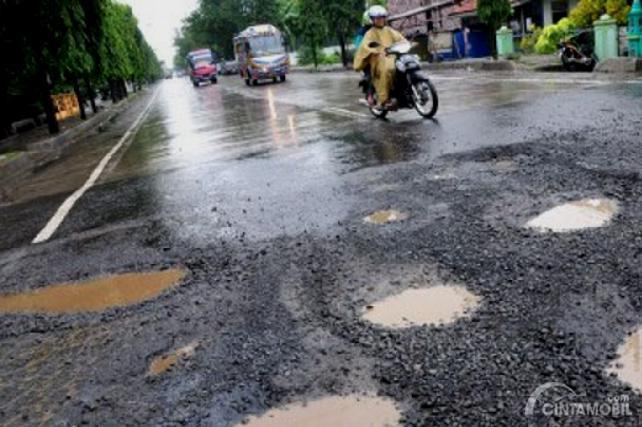Pothole: (4, 237, 208, 337), (310, 265, 501, 353), (474, 158, 642, 243), (223, 382, 425, 427), (324, 158, 426, 245), (575, 298, 642, 407), (130, 310, 216, 389)
